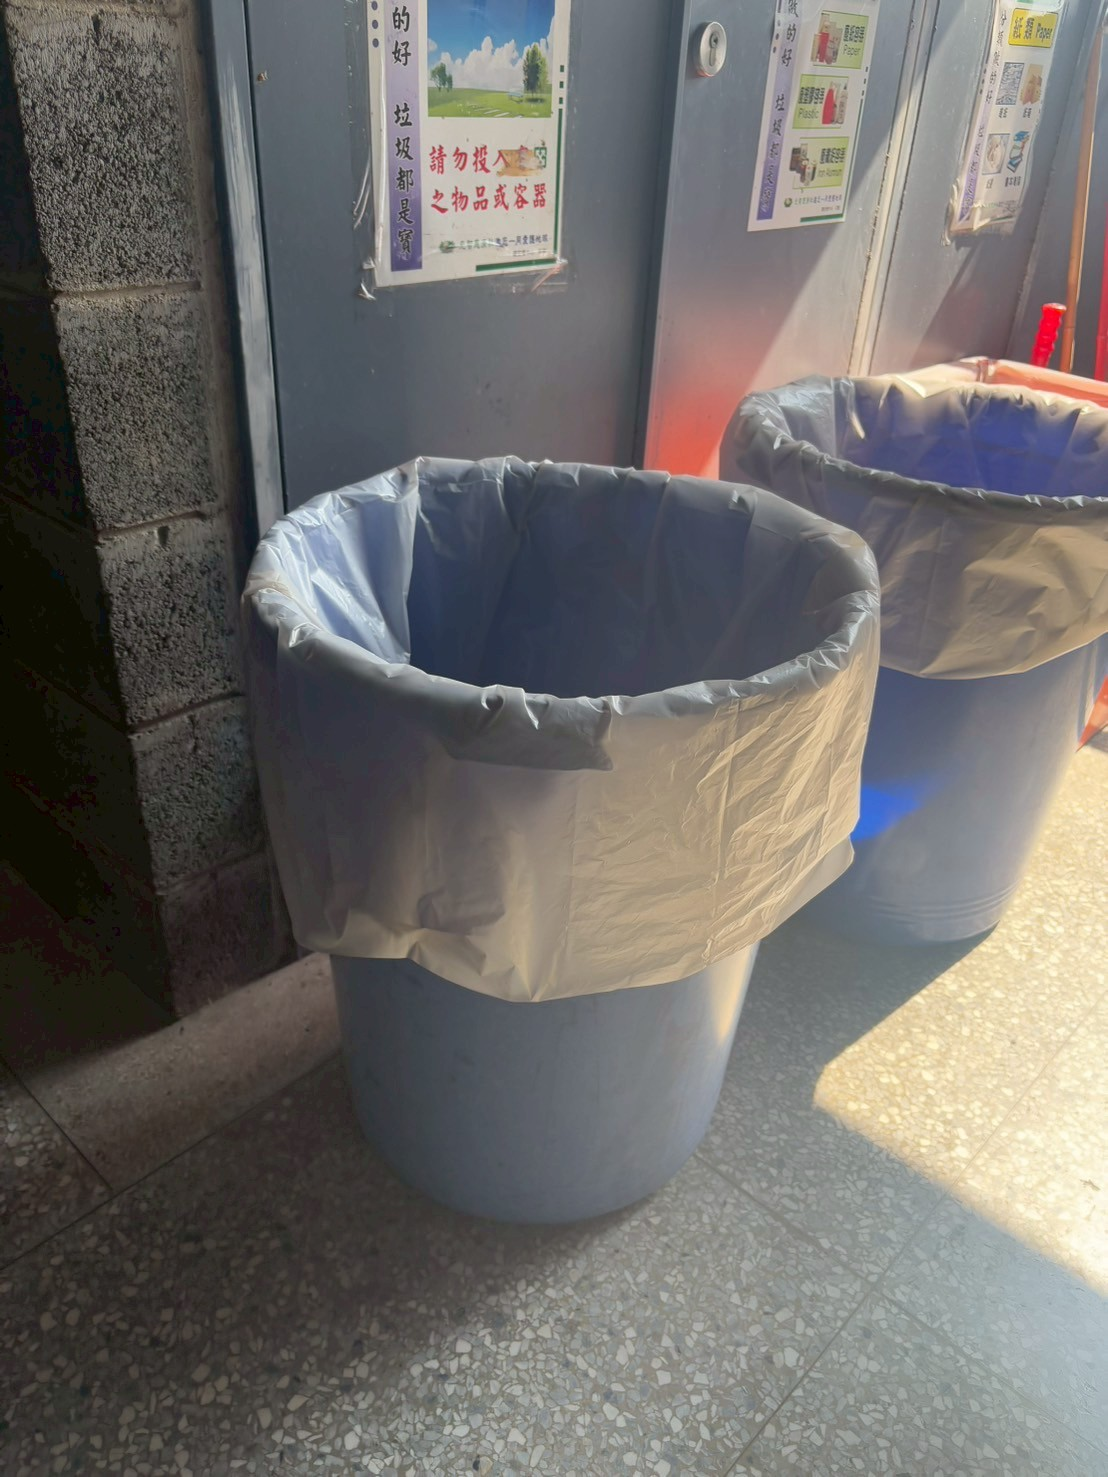normal_bin: (206, 438, 903, 1276)
